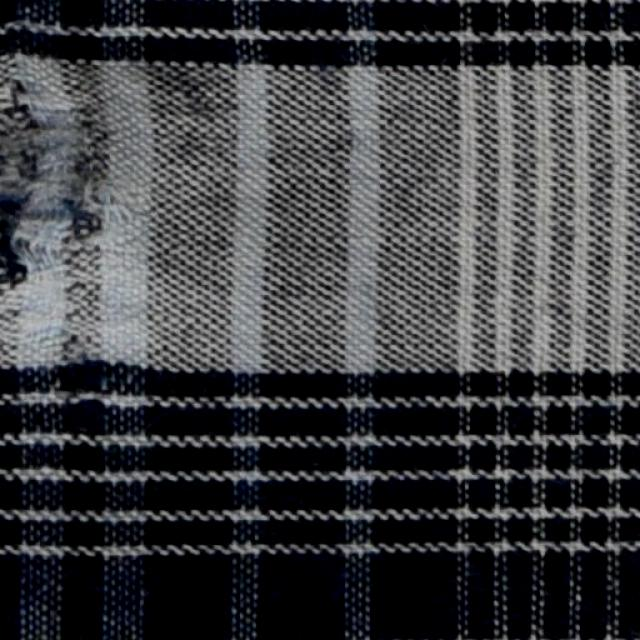Snag: (0, 50, 87, 320)
